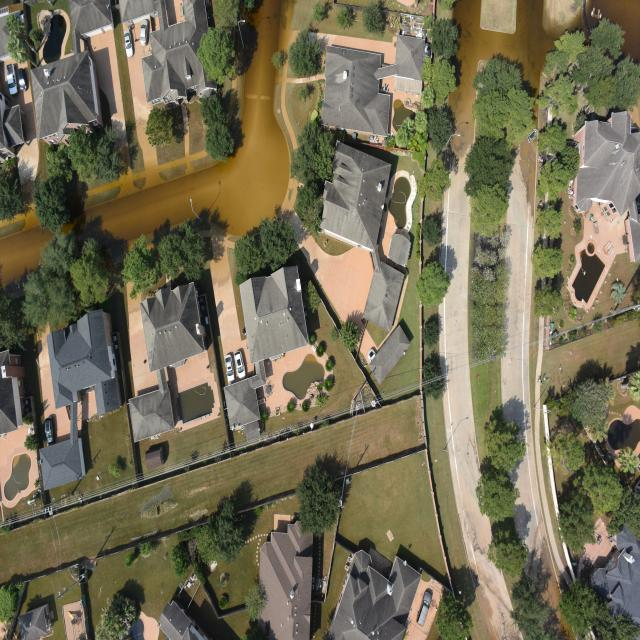fire: (85, 0, 289, 244), (450, 0, 556, 124), (595, 0, 640, 62), (0, 227, 47, 282), (453, 132, 472, 157)
